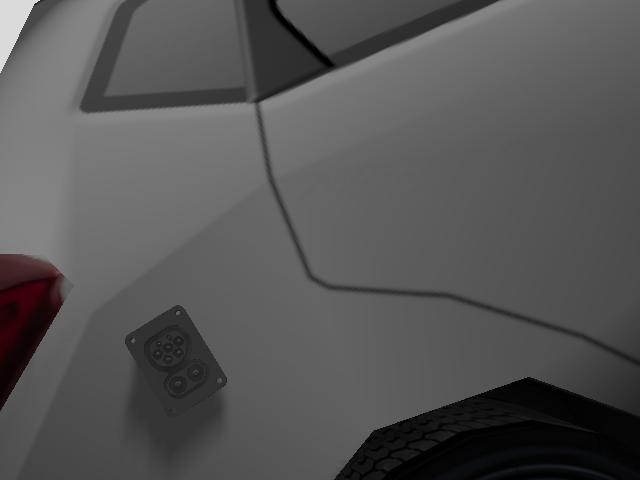EV-socket: (122, 301, 231, 426)
